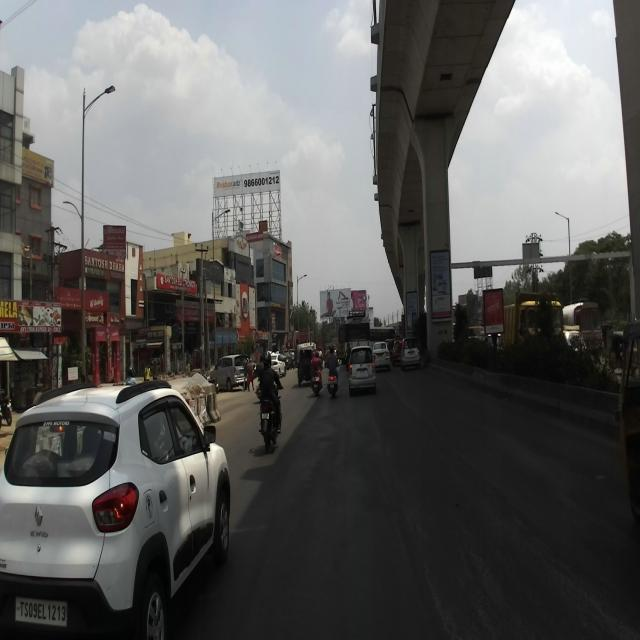car: (0, 377, 230, 639), (348, 344, 376, 396), (401, 336, 420, 371)
motorcycle: (256, 373, 283, 453)
